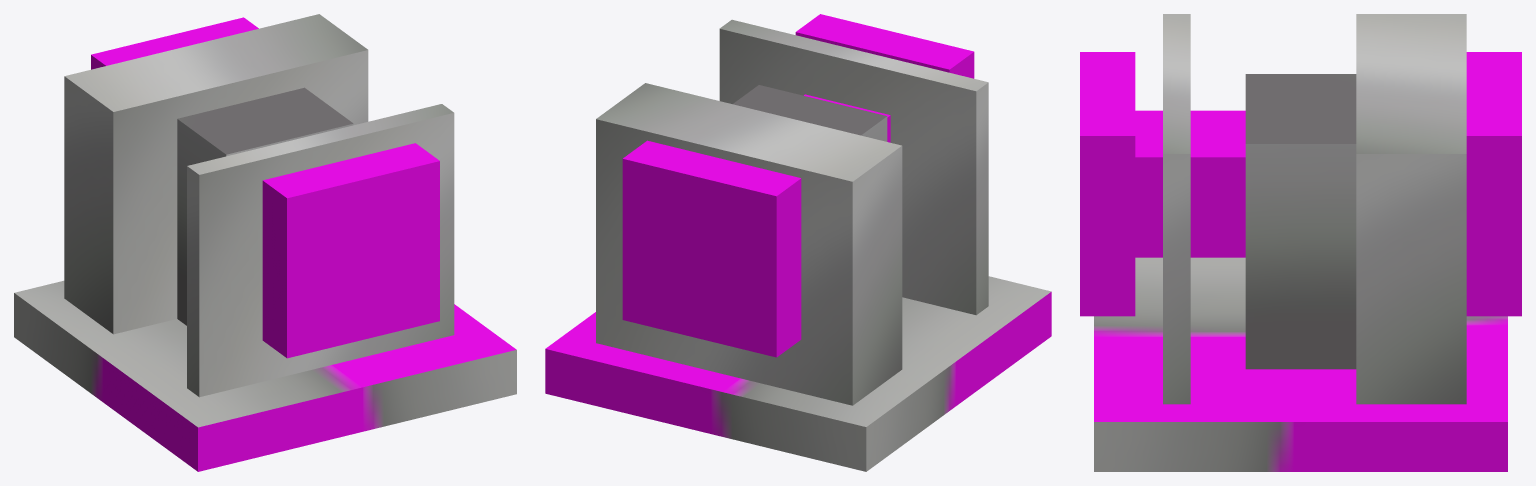
The model's file is pump.obj.
3 renders of one model, left to right at view 1: azimuth 30°, elevation 25°; view 2: azimuth 150°, elevation 25°; view 3: azimuth 270°, elevation 25°, orthographic. The views are drawn at different scales.
Visible parts, largest first — view 1: Pump_pumdl, Baseplate_pmdl; view 2: Pump_pumdl, Baseplate_pmdl; view 3: Pump_pumdl, Baseplate_pmdl.
Boxes of the visible parts, bbox=[...] form: Pump_pumdl: bbox=[64, 14, 454, 397]; Baseplate_pmdl: bbox=[14, 280, 516, 471]; Pump_pumdl: bbox=[596, 14, 988, 405]; Baseplate_pmdl: bbox=[545, 276, 1051, 471]; Pump_pumdl: bbox=[1080, 14, 1521, 404]; Baseplate_pmdl: bbox=[1094, 257, 1507, 471].
Bounding box in the file's own units: 0.9375 × 0.75 × 1.
